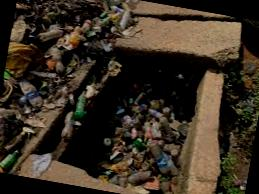Blocked drain: (50, 32, 207, 194)
Trash: (0, 0, 79, 147)
